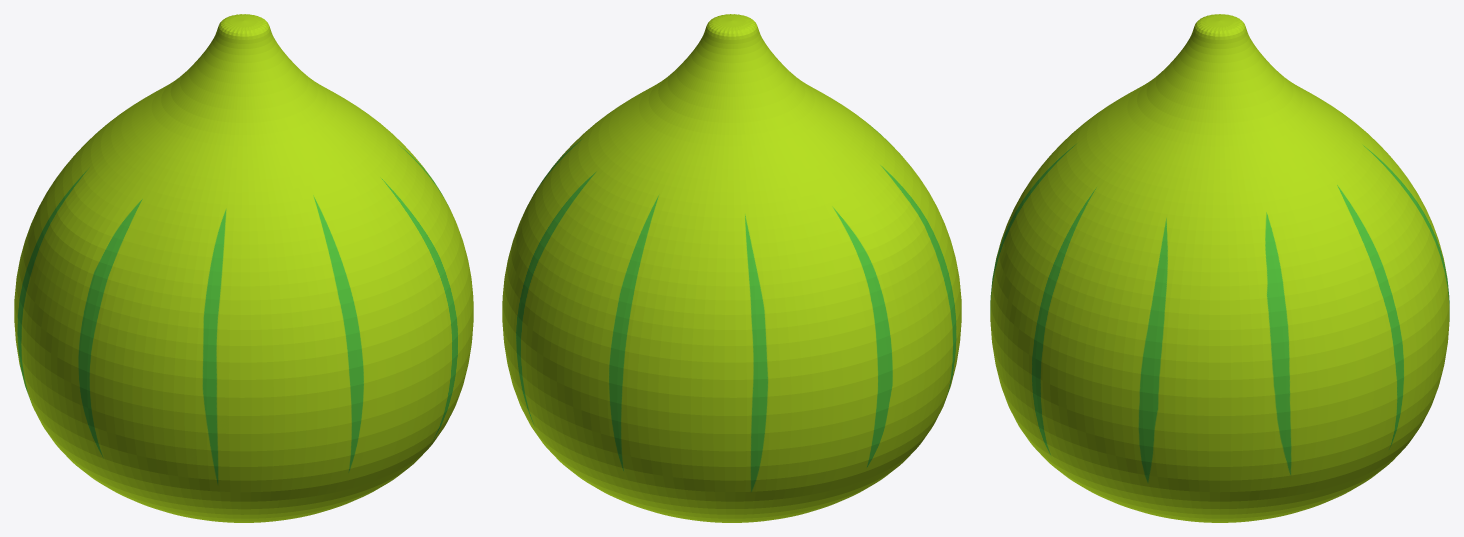
File: fico.fbx
3 renders of one model, left to right at view 1: azimuth 30°, elevation 25°; view 2: azimuth 150°, elevation 25°; view 3: azimuth 270°, elevation 25°, orthographic.
Parts seen in each view (by area): view 1: Fico; view 2: Fico; view 3: Fico.
Boxes of the visible parts, bbox=[...] form: Fico: bbox=[14, 14, 473, 522]; Fico: bbox=[502, 14, 961, 522]; Fico: bbox=[990, 14, 1449, 522].
Size of the model in its own units: 313 by 313 by 350.
